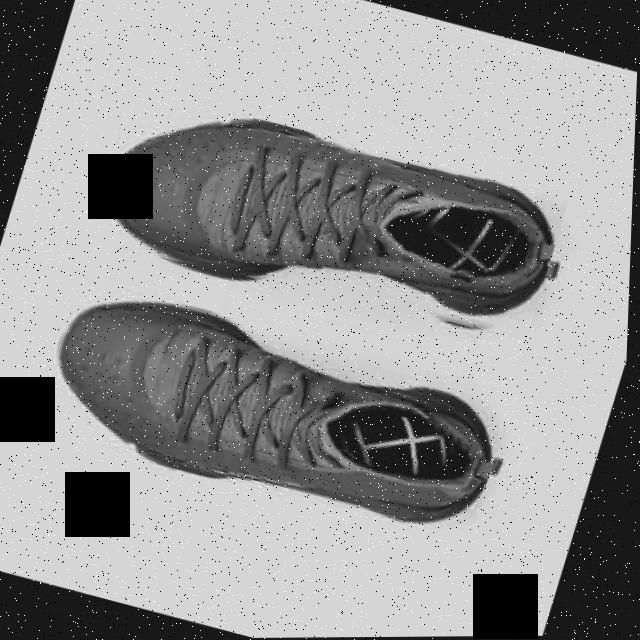shoe: (31, 273, 521, 549), (87, 84, 573, 358)
